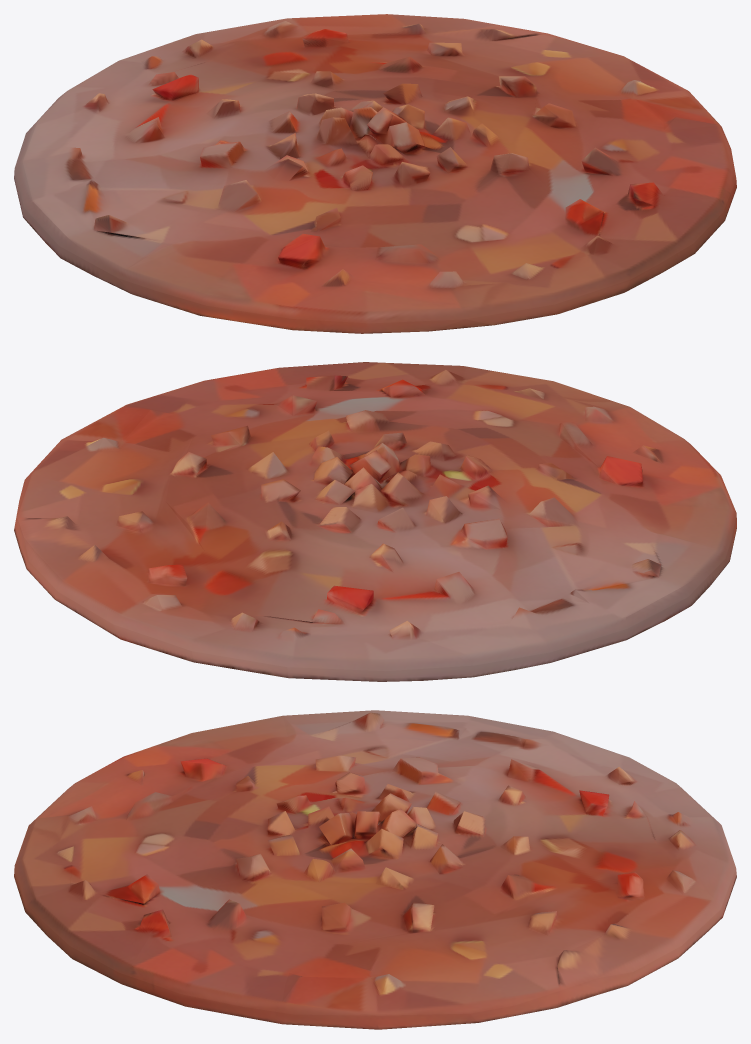
File: base_basic_shaded.fbx
The picture shows the model from 3 angles, top to bottom: view 1: azimuth 30°, elevation 25°; view 2: azimuth 150°, elevation 25°; view 3: azimuth 270°, elevation 25°; orthographic projection.
Visible parts, largest first — view 1: model; view 2: model; view 3: model.
Boxes of the visible parts, x1,y1,x2,y2 form: model: [14, 14, 736, 333]; model: [14, 362, 736, 681]; model: [14, 710, 736, 1029].
Bounding box in the file's own units: 186 × 20.74 × 185.
